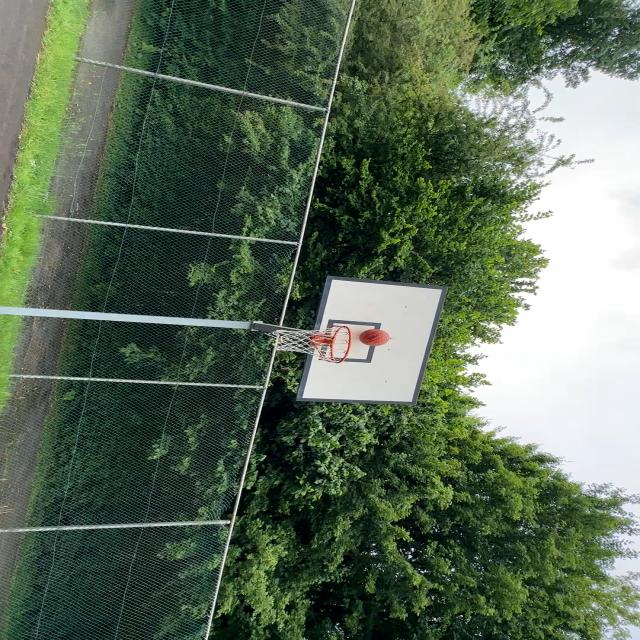rebound_hit: (359, 328, 390, 348)
